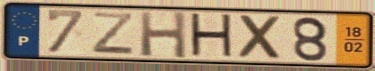7: (45, 8, 85, 55)
8: (291, 15, 329, 63)
H: (138, 10, 189, 61), (188, 11, 236, 61)
X: (237, 13, 285, 61)
Z: (90, 10, 136, 56)
